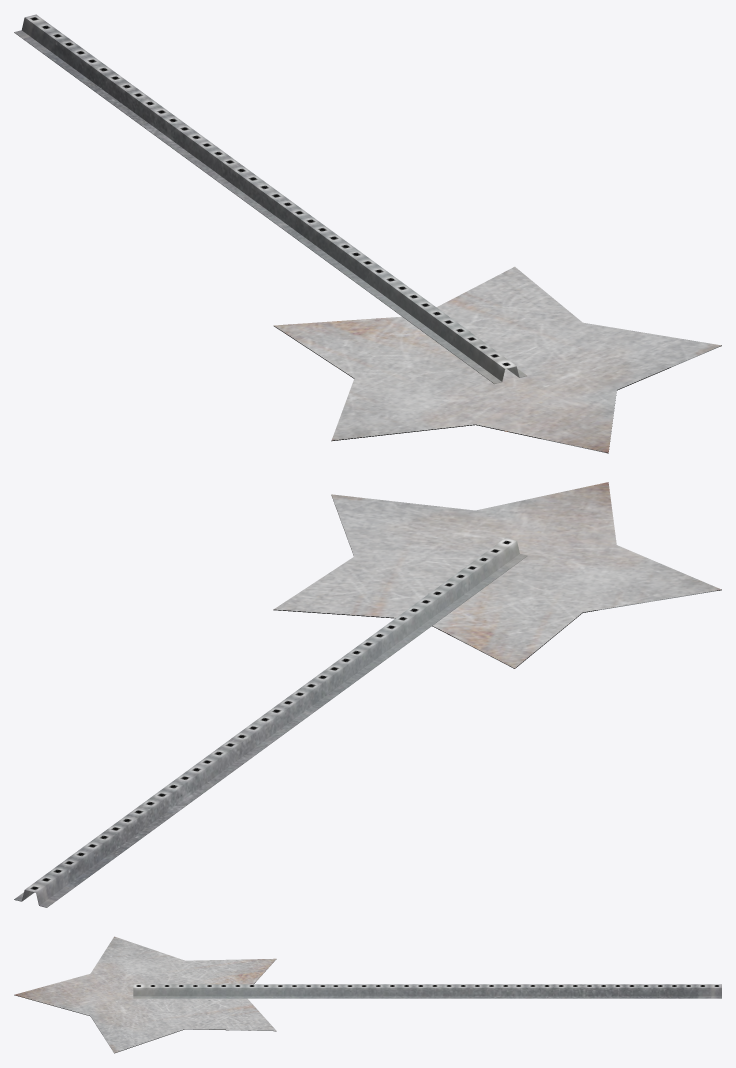
Rendered from gold_sign.dae.
3 views of the same model, one above another, from view 1: azimuth 30°, elevation 25°; view 2: azimuth 150°, elevation 25°; view 3: azimuth 270°, elevation 25° (orthographic). The views are drawn at different scales.
Parts seen in each view (by area): view 1: Star001, Box006; view 2: Star001, Box006; view 3: Star001, Box006.
Part boxes in pixels (x1=…): Star001: x1=273, y1=266, x2=721, y2=453; Box006: x1=14, y1=14, x2=526, y2=384; Star001: x1=273, y1=482, x2=721, y2=668; Box006: x1=14, y1=538, x2=527, y2=907; Star001: x1=14, y1=936, x2=276, y2=1053; Box006: x1=133, y1=984, x2=721, y2=998.
Bounding box in the file's own units: 735 × 26.38 × 1884.
Materials: 1 (1 with a texture image).
